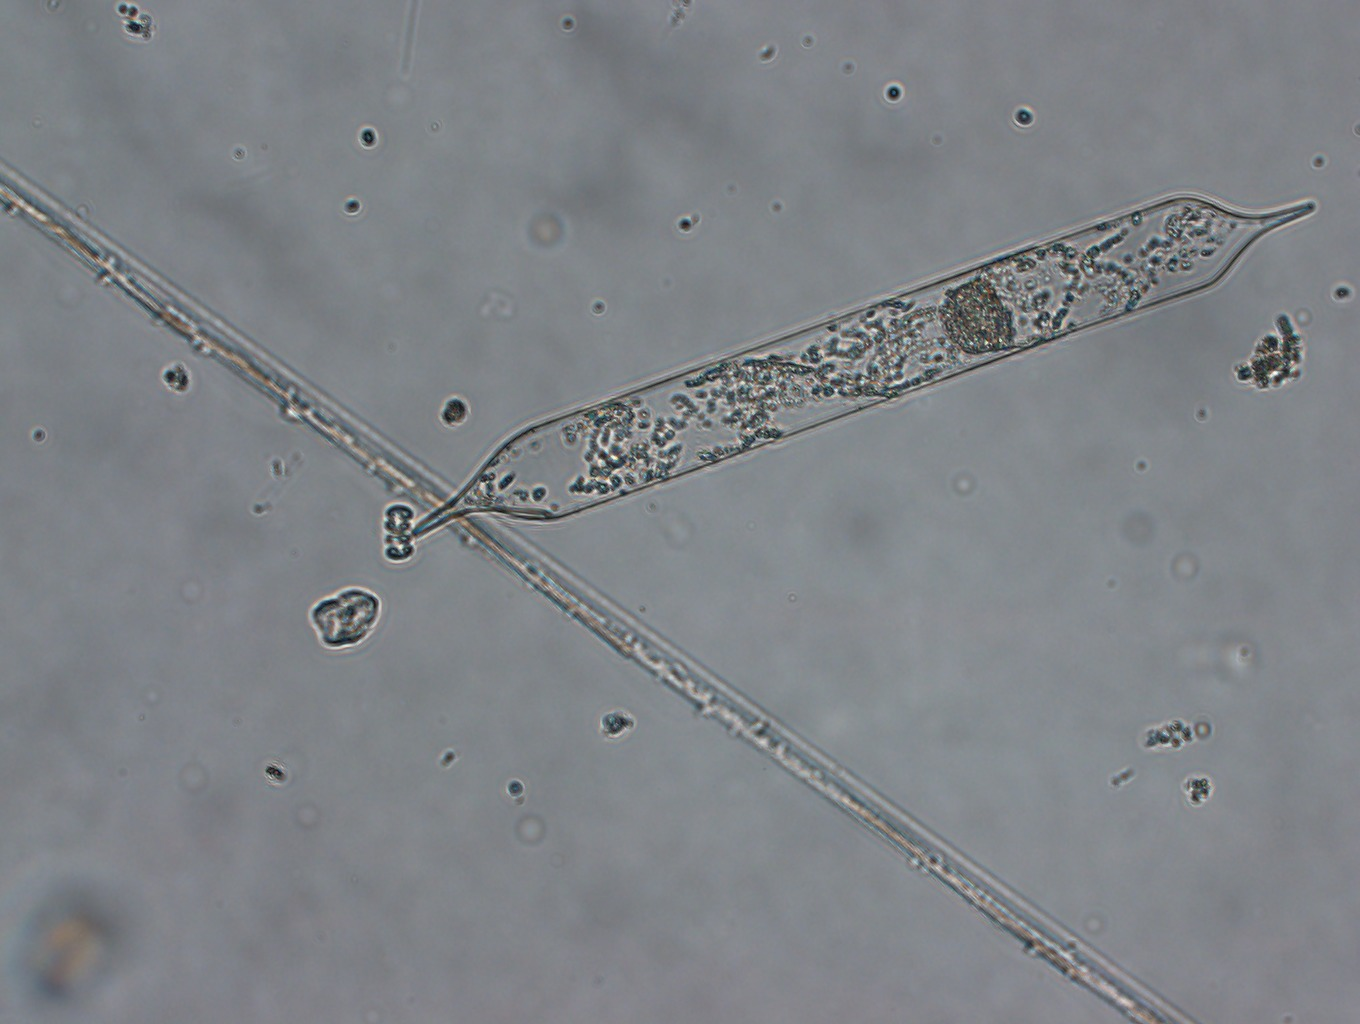rhizosolenia: (410, 193, 1325, 542)
skeletonema: (378, 502, 414, 564)
